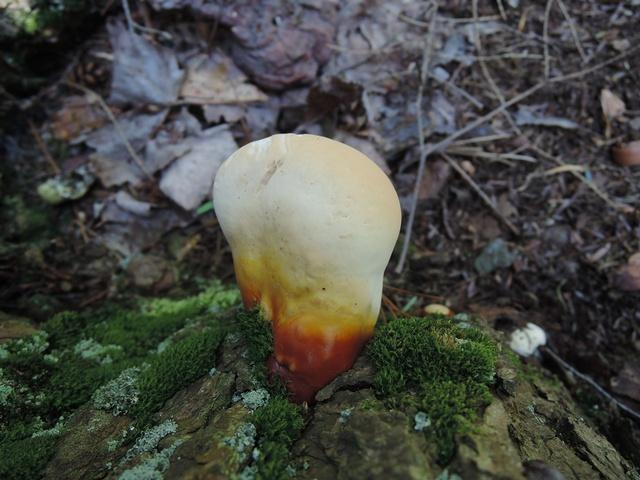poisonous_mushroom: (210, 130, 403, 404)
